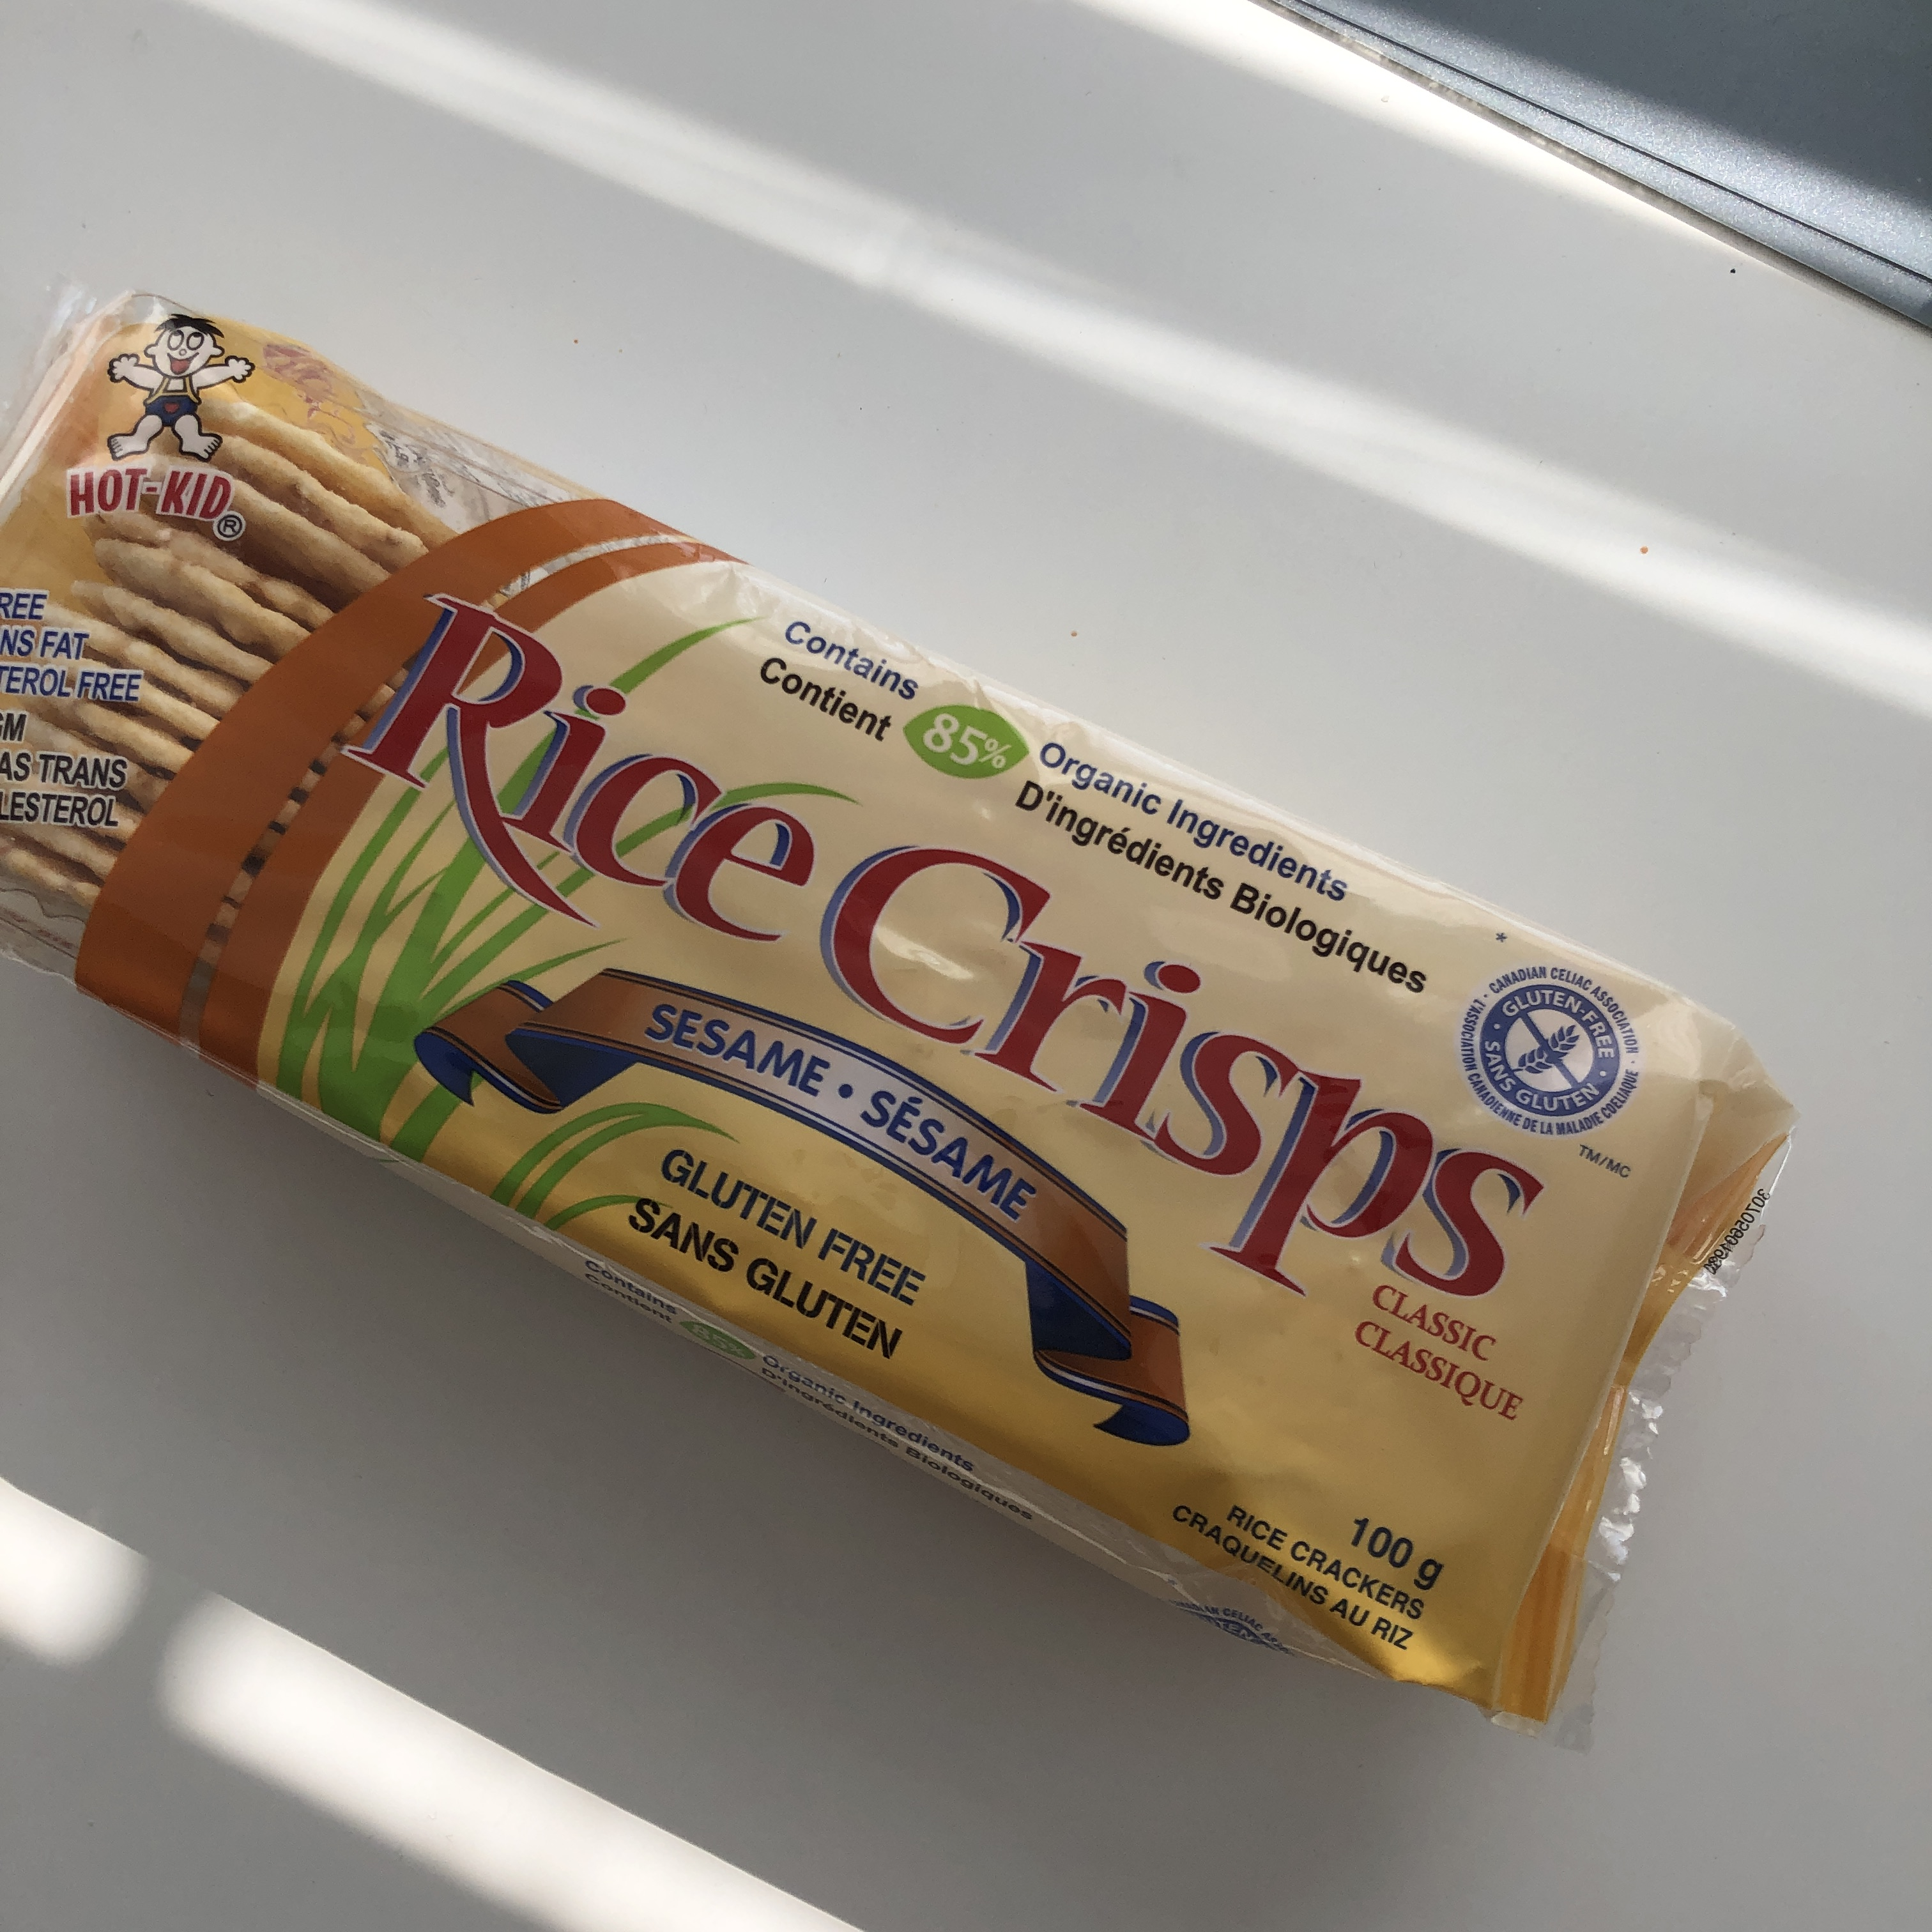hot_kid_rice_crisps_sesame: (302, 327, 1768, 1870)
